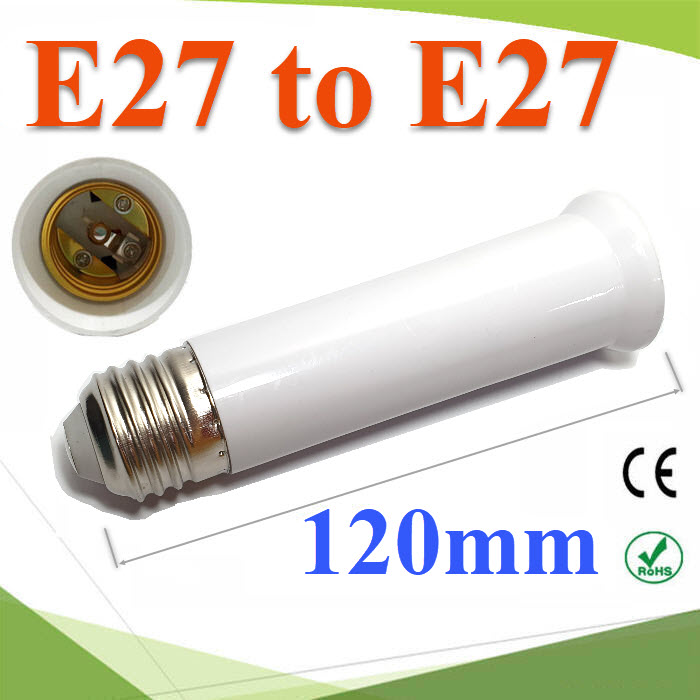Light_bulb: (53, 177, 676, 519)
